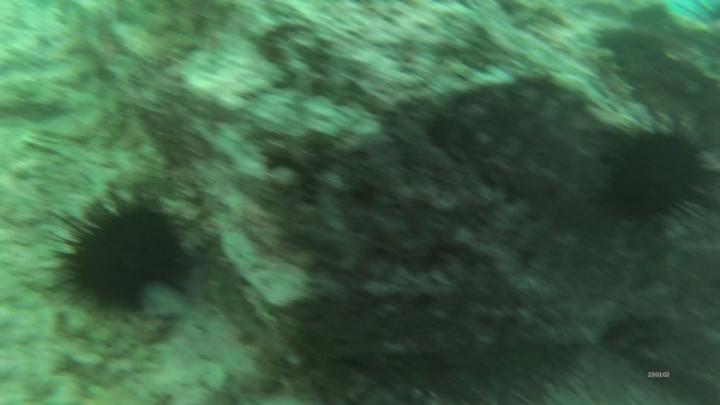echinus: (76, 214, 178, 309), (608, 130, 701, 216)
